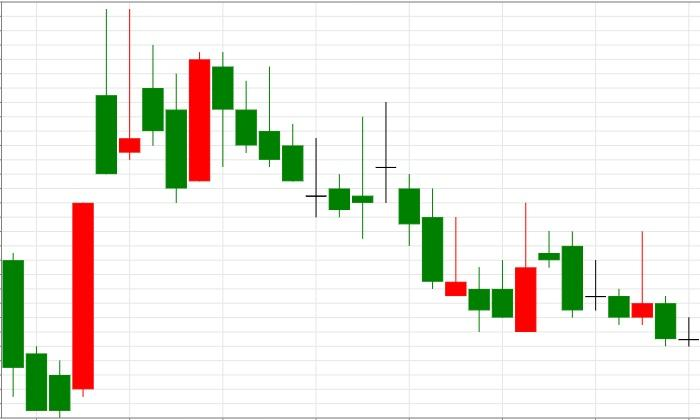bullish_engulfing_rise: (375, 103, 537, 333)
inverse_hammer_rise: (538, 231, 654, 325)
shooting_star_fall: (49, 9, 141, 418)
